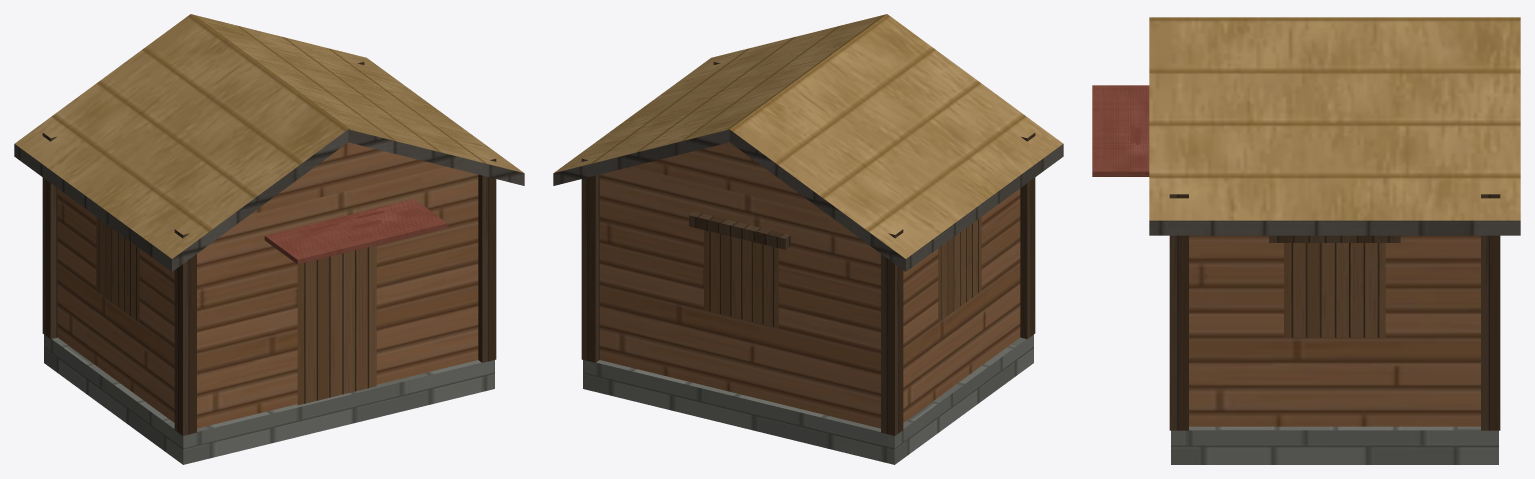
File: ae_sand_wood_small_booth_lod1.glb
The picture shows the model from 3 angles, left to right: view 1: azimuth 30°, elevation 25°; view 2: azimuth 150°, elevation 25°; view 3: azimuth 270°, elevation 25°; orthographic projection. The views are drawn at different scales.
Visible parts, largest first — view 1: ae_sand_wood_small_booth_lod1; view 2: ae_sand_wood_small_booth_lod1; view 3: ae_sand_wood_small_booth_lod1.
Boxes of the visible parts, x1,y1,x2,y2 form: ae_sand_wood_small_booth_lod1: [14, 14, 524, 464]; ae_sand_wood_small_booth_lod1: [553, 14, 1063, 464]; ae_sand_wood_small_booth_lod1: [1092, 17, 1520, 464].
Size of the model in its own units: 4 by 3.3 by 3.58.
1 material, 1 textured.
